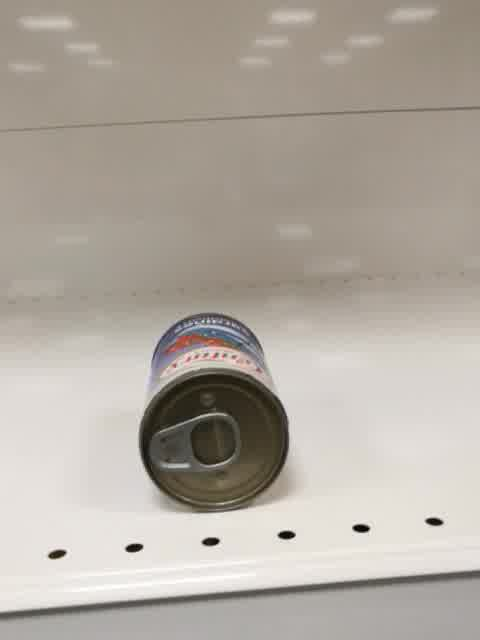sardine: (137, 312, 290, 514)
